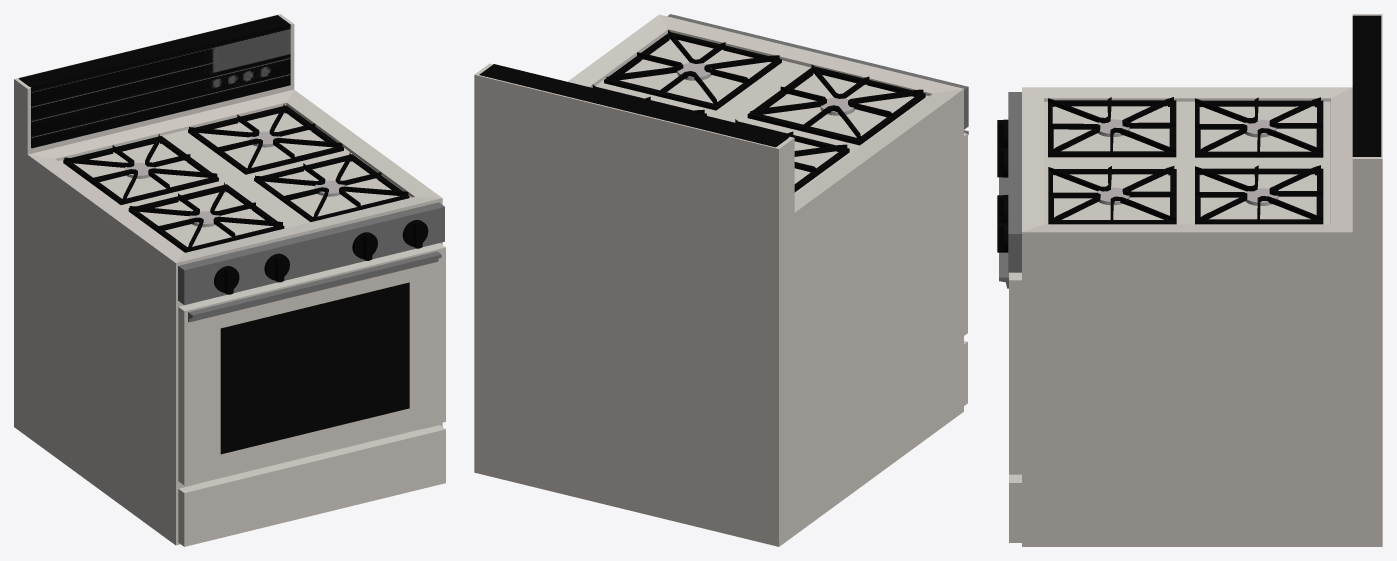
Rendered from sweethome3d-contributions-stove-213.glb.
3 renders of one model, left to right at view 1: azimuth 30°, elevation 25°; view 2: azimuth 150°, elevation 25°; view 3: azimuth 270°, elevation 25°, orthographic. The views are drawn at different scales.
Visible parts, largest first — view 1: stoveshell, ovenwindow, Ovendoor, PolyMesh_1, bottomstorage, Controlpanel, newcover_1, newcover_2, newcover_3, newcover, PolyMesh_4, knob_1 (+3 smaller); view 2: stoveshell, newcover_3, newcover, PolyMesh_1, newcover_2, Controlpanel, Ovendoor; view 3: stoveshell, newcover_3, newcover_2, PolyMesh_1, newcover_1, newcover, Ovendoor, Controlpanel, bottomstorage, PolyMesh_4.
Part boxes in pixels (box(x1,y1,x2,y2)): stoveshell: box(14, 14, 442, 545); ovenwindow: box(220, 282, 409, 454); Ovendoor: box(178, 243, 445, 485); PolyMesh_1: box(19, 15, 290, 148); bottomstorage: box(178, 425, 445, 546); Controlpanel: box(178, 202, 444, 304); newcover_1: box(188, 103, 343, 174); newcover_2: box(63, 134, 218, 204); newcover_3: box(128, 182, 284, 252); newcover: box(254, 152, 409, 221); PolyMesh_4: box(188, 251, 441, 322); knob_1: box(352, 232, 377, 260); stoveshell: box(474, 14, 963, 546); newcover_3: box(747, 64, 925, 145); newcover: box(604, 30, 781, 110); PolyMesh_1: box(479, 64, 789, 147); newcover_2: box(735, 119, 849, 192); Controlpanel: box(667, 14, 968, 129); Ovendoor: box(964, 133, 967, 335); stoveshell: box(1022, 14, 1382, 546); newcover_3: box(1048, 97, 1176, 157); newcover_2: box(1195, 97, 1323, 157); PolyMesh_1: box(1352, 15, 1381, 156); newcover_1: box(1195, 165, 1323, 224); newcover: box(1048, 166, 1176, 224); Ovendoor: box(1009, 272, 1021, 474); Controlpanel: box(1008, 92, 1021, 272); bottomstorage: box(1009, 474, 1021, 542); PolyMesh_4: box(999, 177, 1008, 288).
Bounding box in the file's own units: 6.12 × 7.64 × 6.87.
Materials: 7 (1 with a texture image).
